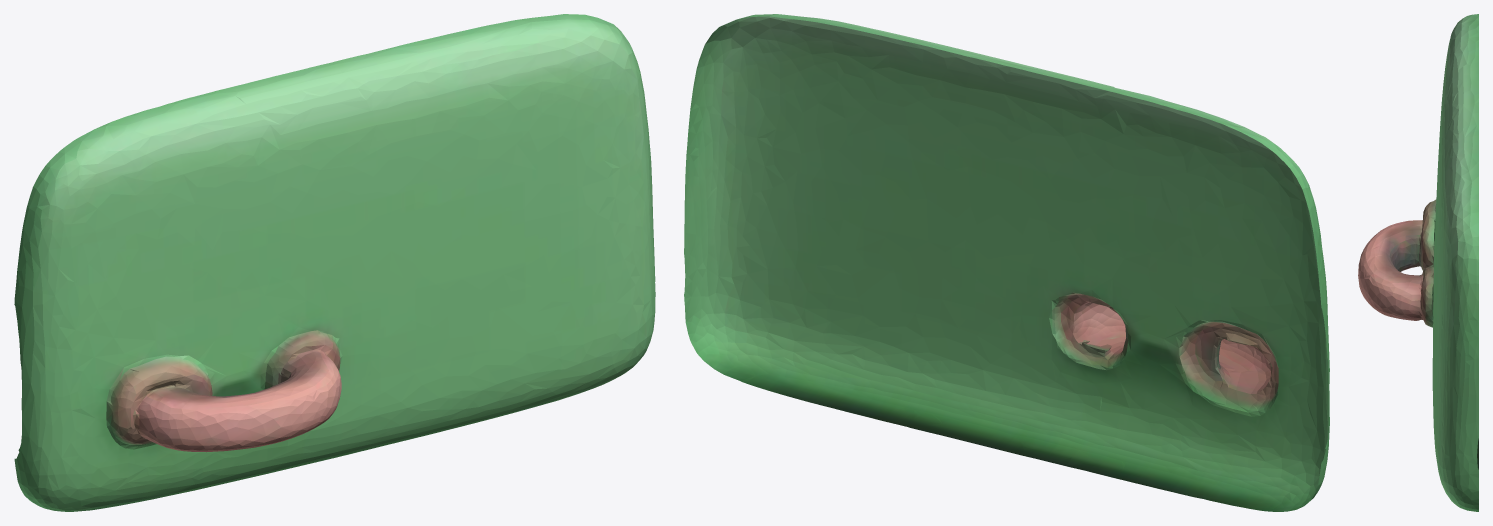
File: freezer_door.glb
3 views of the same model, side by side, from view 1: azimuth 30°, elevation 25°; view 2: azimuth 150°, elevation 25°; view 3: azimuth 270°, elevation 25° (orthographic). The views are drawn at different scales.
Visible parts, largest first — view 1: source_surface_0; view 2: source_surface_0; view 3: source_surface_0.
Part boxes in pixels (box(x1,y1,x2,y2)): source_surface_0: box(14, 14, 655, 511); source_surface_0: box(684, 14, 1329, 511); source_surface_0: box(1358, 14, 1478, 511).
Size of the model in its own units: 1.33 by 0.7716 by 0.2751.
1 material, 1 textured.
